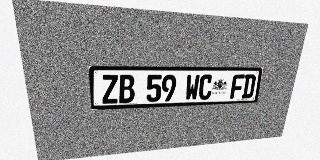5: (146, 75, 162, 102)
9: (161, 75, 177, 102)
B: (118, 75, 134, 103)
C: (198, 75, 213, 100)
D: (241, 74, 256, 98)
F: (230, 74, 245, 99)
W: (185, 75, 200, 101)
Z: (101, 75, 119, 104)
